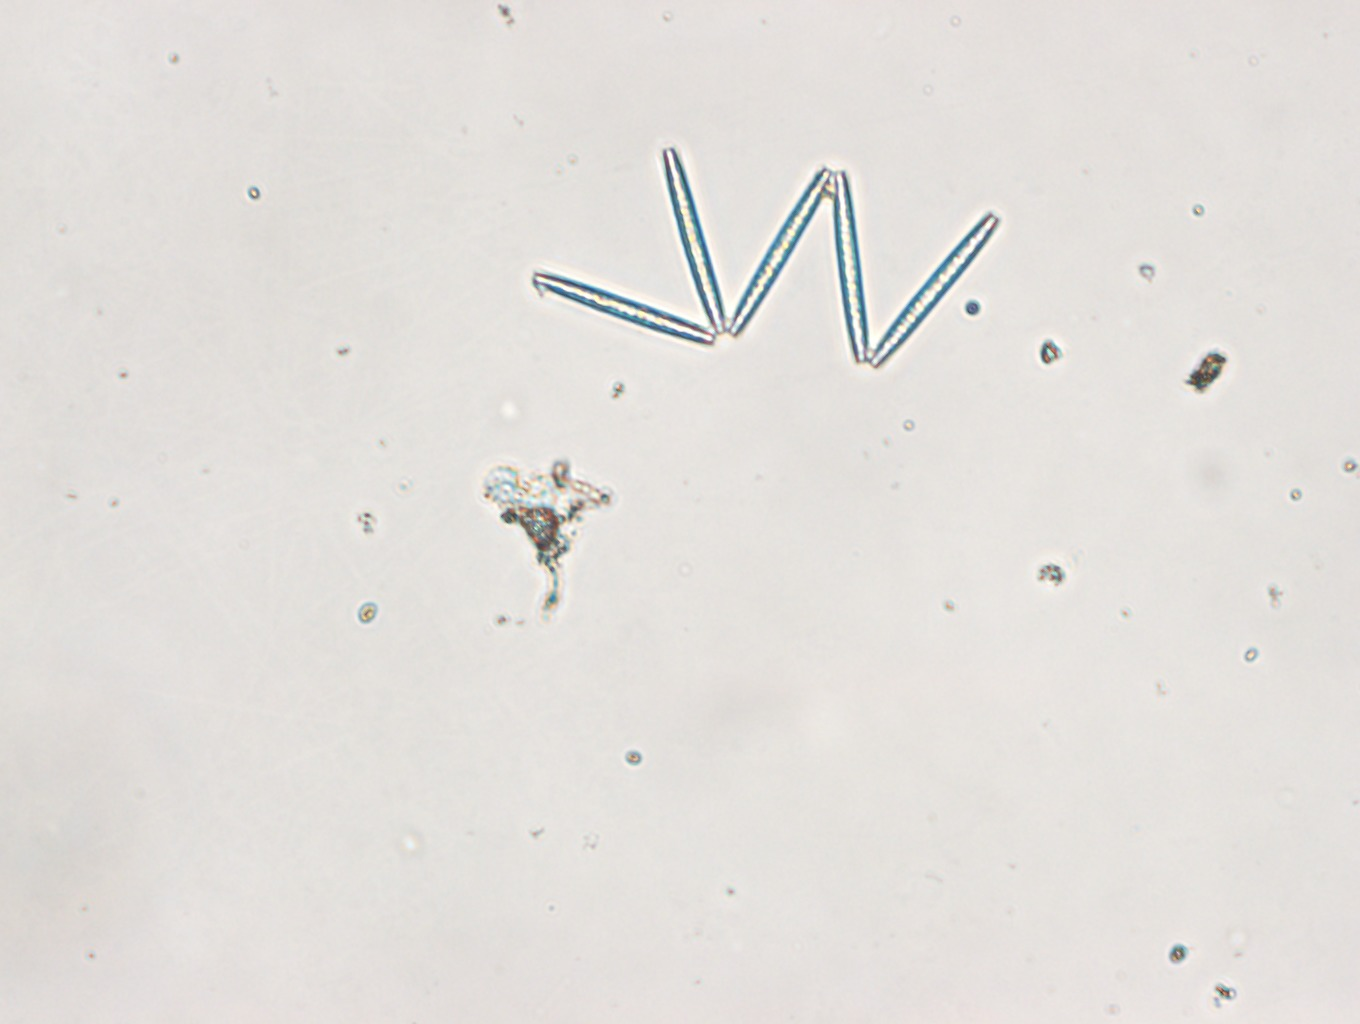thalassionema nitzschioides: (532, 147, 1000, 373)
